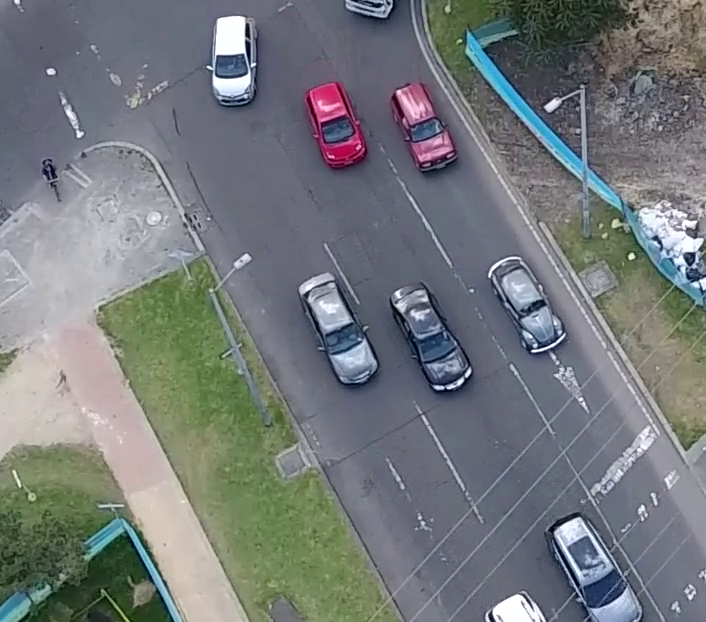car: (293, 273, 380, 391), (388, 280, 475, 395), (486, 251, 568, 356), (388, 79, 459, 175), (300, 78, 369, 174), (205, 8, 260, 107)
